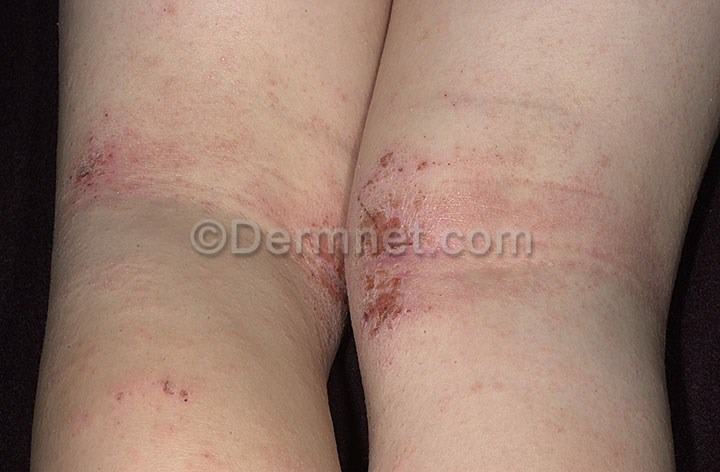Eczema: (361, 132, 655, 361), (63, 86, 361, 216), (136, 2, 264, 80), (92, 350, 209, 430)
